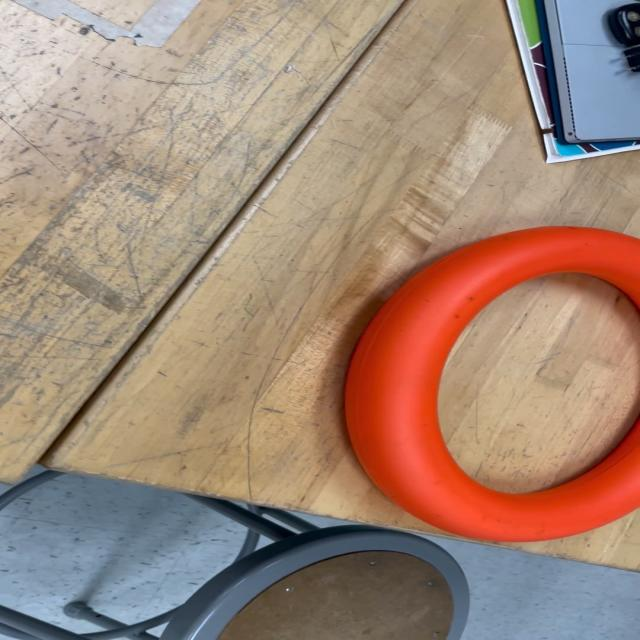note: (339, 230, 634, 544)
